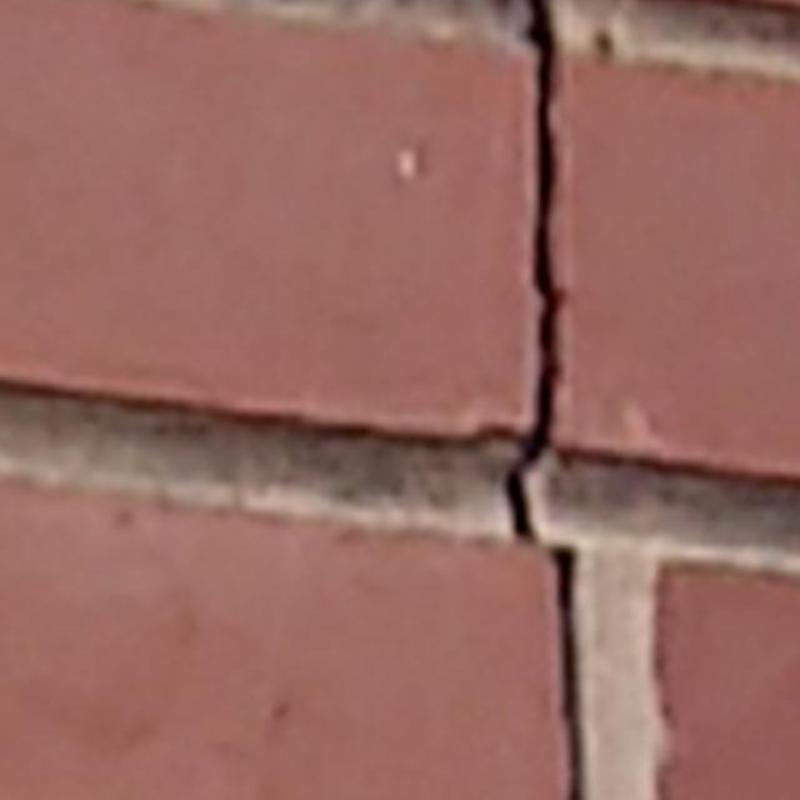pothole: (505, 0, 559, 541), (553, 548, 580, 800)
